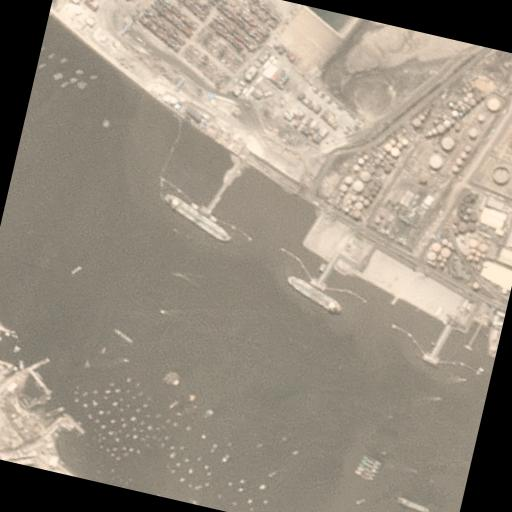ship: (158, 192, 236, 244), (282, 272, 346, 316), (396, 494, 433, 512), (70, 262, 85, 276), (354, 495, 366, 506)
